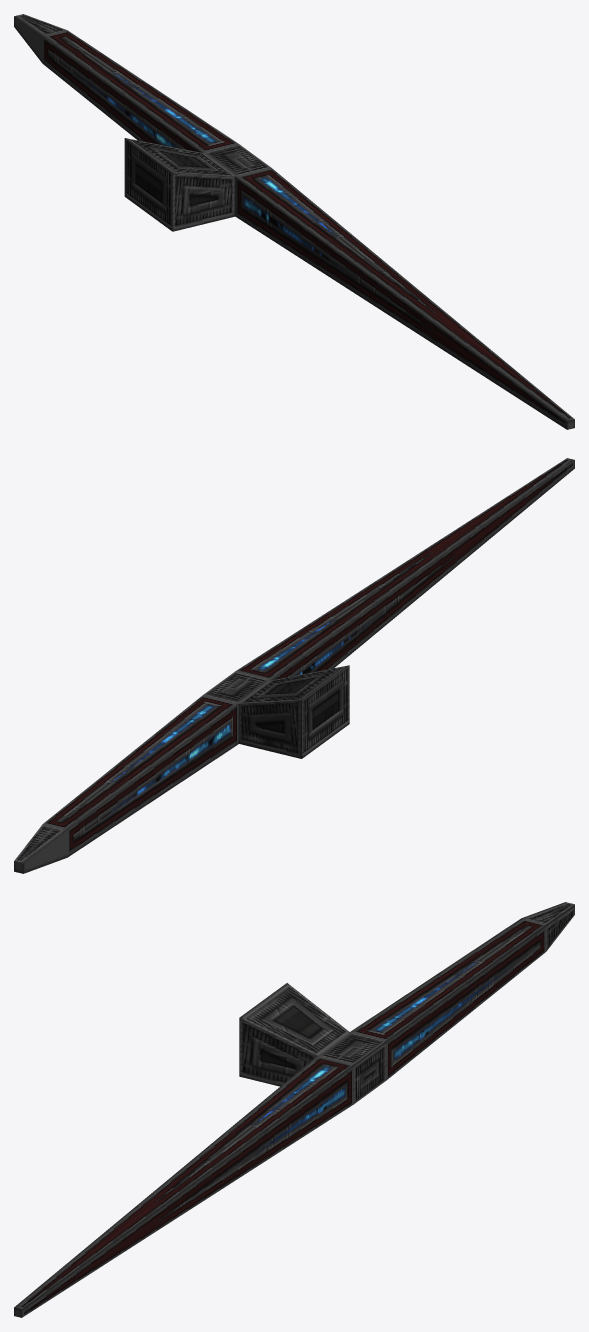
The model's file is BFP_JumpgatePylon01_LowerLeft.FBX.
3 renders of one model, top to bottom at view 1: azimuth 30°, elevation 25°; view 2: azimuth 150°, elevation 25°; view 3: azimuth 330°, elevation 25°, orthographic.
Parts seen in each view (by area): view 1: BFP_JumpgatePylon01_LowerLeft; view 2: BFP_JumpgatePylon01_LowerLeft; view 3: BFP_JumpgatePylon01_LowerLeft.
Part boxes in pixels (x1,y1,x2,y2): BFP_JumpgatePylon01_LowerLeft: [14, 14, 574, 429]; BFP_JumpgatePylon01_LowerLeft: [14, 458, 574, 873]; BFP_JumpgatePylon01_LowerLeft: [14, 902, 574, 1317].
Size of the model in its own units: 433 by 258 by 3886.
Materials: 1 (1 with a texture image).
